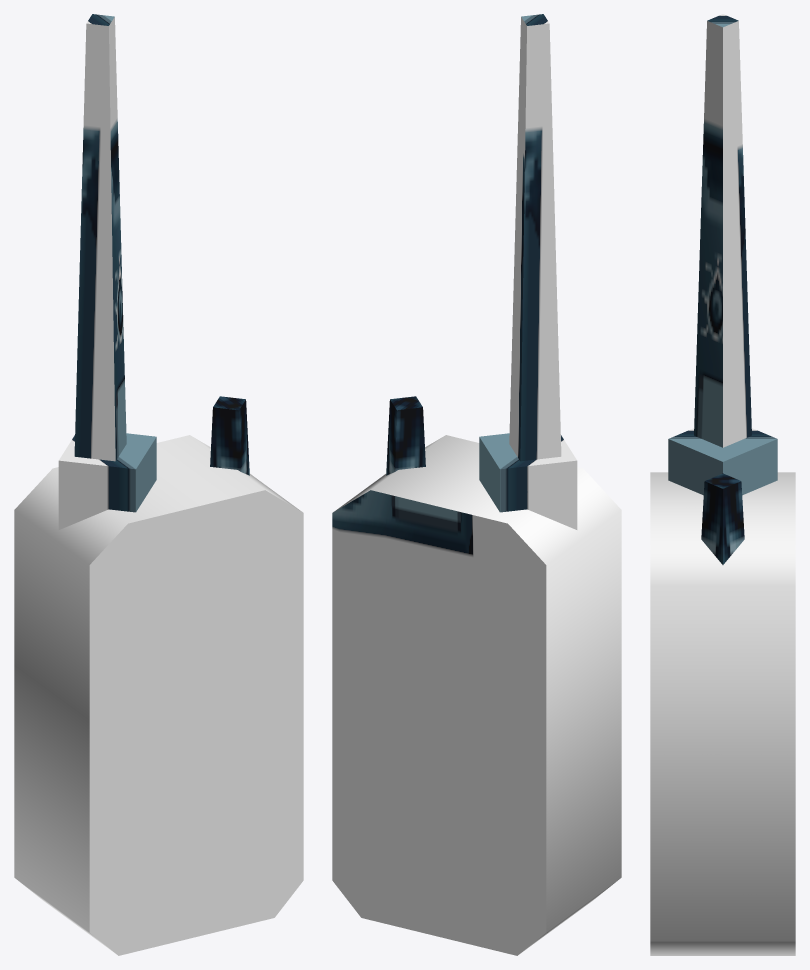
The model's file is radio.fbx.
3 renders of one model, left to right at view 1: azimuth 30°, elevation 25°; view 2: azimuth 150°, elevation 25°; view 3: azimuth 270°, elevation 25°, orthographic. The views are drawn at different scales.
Parts seen in each view (by area): view 1: Radio.001; view 2: Radio.001; view 3: Radio.001.
Part boxes in pixels (bbox=[...]): Radio.001: bbox=[14, 14, 303, 955]; Radio.001: bbox=[332, 14, 621, 955]; Radio.001: bbox=[650, 14, 795, 955].
Size of the model in its own units: 6.36 by 25.65 by 3.88.
